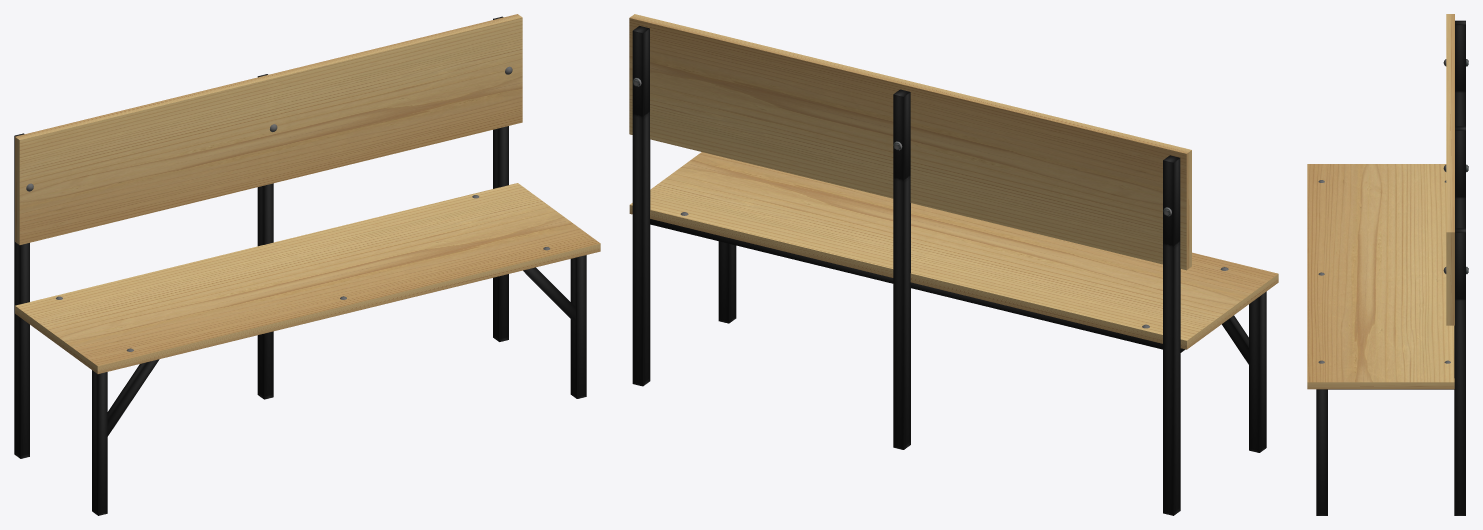
File: Stul.fbx
3 renders of one model, left to right at view 1: azimuth 30°, elevation 25°; view 2: azimuth 150°, elevation 25°; view 3: azimuth 270°, elevation 25°, orthographic. The views are drawn at different scales.
Parts seen in each view (by area): view 1: Объект_Куб_5, Объект_Куб_2, Объект_Куб_19, Объект_Куб, Объект_Куб_1, Объект_Куб_3, Объект_Куб_8, Объект_Куб_6, Объект_Куб_6_2; view 2: Объект_Куб_5, Объект_Куб_2, Объект_Куб_8, Объект_Куб_19, Объект_Куб_3, Объект_Куб_12, Объект_Куб_1, Объект_Куб; view 3: Объект_Куб_2, Объект_Куб_8, Объект_Куб_5, Объект_Куб, Объект_Куб_19, Объект_Куб_3.
Part boxes in pixels (box(x1,y1,x2,y2)): Объект_Куб_5: box(15, 14, 522, 244); Объект_Куб_2: box(15, 183, 600, 373); Объект_Куб_19: box(14, 133, 29, 458); Объект_Куб: box(570, 255, 586, 398); Объект_Куб_1: box(92, 370, 107, 515); Объект_Куб_3: box(257, 74, 273, 399); Объект_Куб_8: box(493, 16, 508, 341); Объект_Куб_6: box(107, 359, 159, 436); Объект_Куб_6_2: box(523, 267, 575, 322); Объект_Куб_5: box(629, 14, 1191, 270); Объект_Куб_2: box(629, 152, 1278, 349); Объект_Куб_8: box(632, 26, 650, 386); Объект_Куб_19: box(1163, 155, 1180, 515); Объект_Куб_3: box(893, 89, 910, 449); Объект_Куб_12: box(650, 219, 1162, 349); Объект_Куб_1: box(1249, 291, 1266, 452); Объект_Куб: box(718, 241, 736, 323); Объект_Куб_2: box(1307, 164, 1454, 389); Объект_Куб_8: box(1454, 228, 1465, 515); Объект_Куб_5: box(1446, 14, 1454, 325); Объект_Куб: box(1316, 389, 1327, 515); Объект_Куб_19: box(1455, 20, 1465, 126); Объект_Куб_3: box(1455, 126, 1465, 228).
Size of the model in its own units: 648 by 398 by 203.
Materials: 4 (4 with a texture image).
